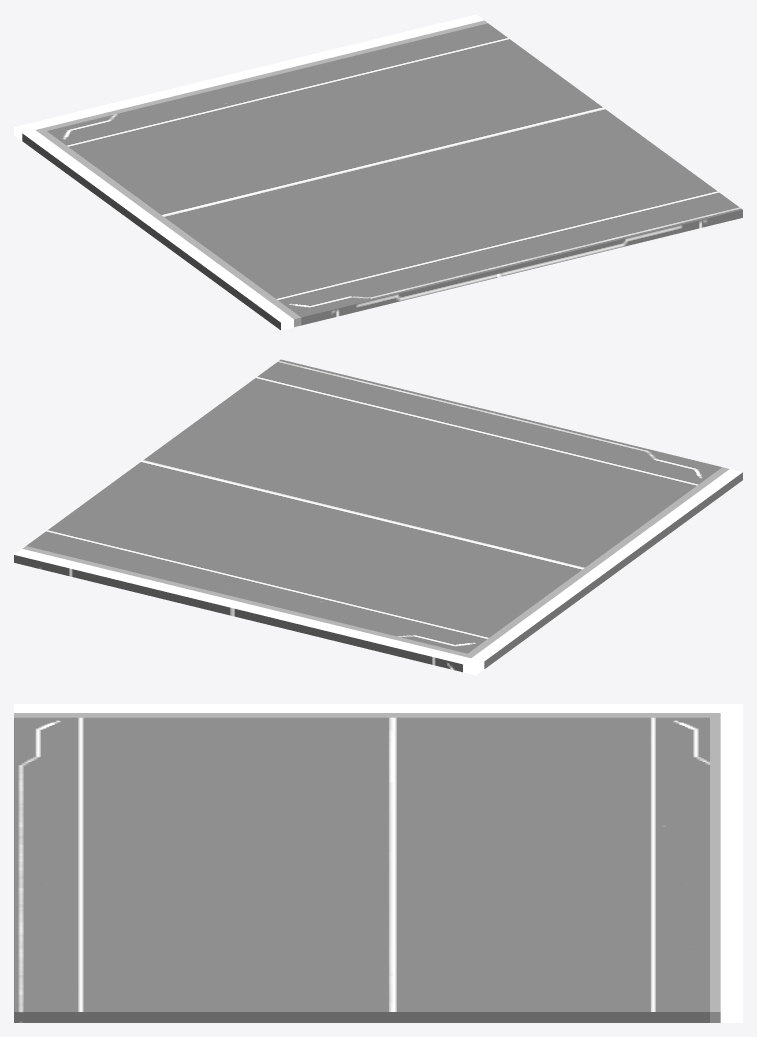
Rendered from Floor5.fbx.
The picture shows the model from 3 angles, top to bottom: view 1: azimuth 30°, elevation 25°; view 2: azimuth 150°, elevation 25°; view 3: azimuth 270°, elevation 25°; orthographic projection. The views are drawn at different scales.
Parts seen in each view (by area): view 1: Floor5; view 2: Floor5; view 3: Floor5.
Part boxes in pixels (left/top/right/bottom): Floor5: left=14, top=14, right=742, bottom=330; Floor5: left=14, top=359, right=742, bottom=675; Floor5: left=14, top=704, right=742, bottom=1022.
Bounding box in the file's own units: 797 × 13.1 × 797.
